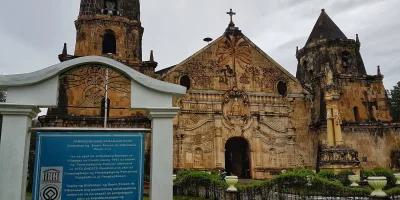Miagao Church: (53, 1, 400, 182)
